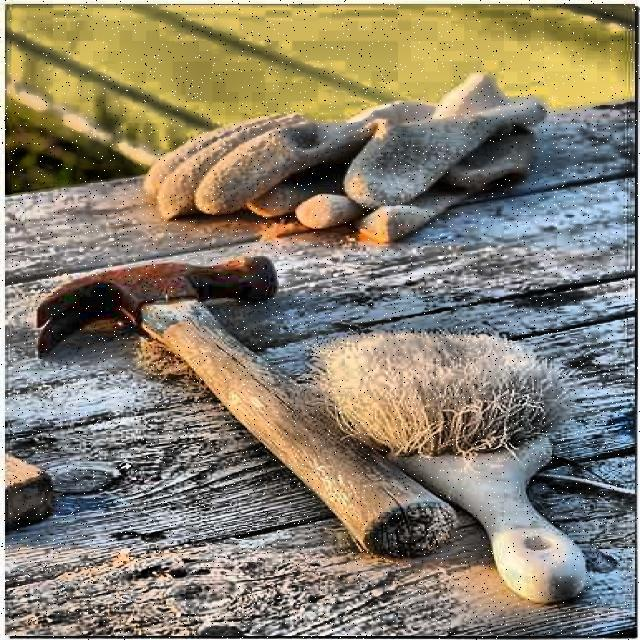hammer: (35, 254, 458, 560)
